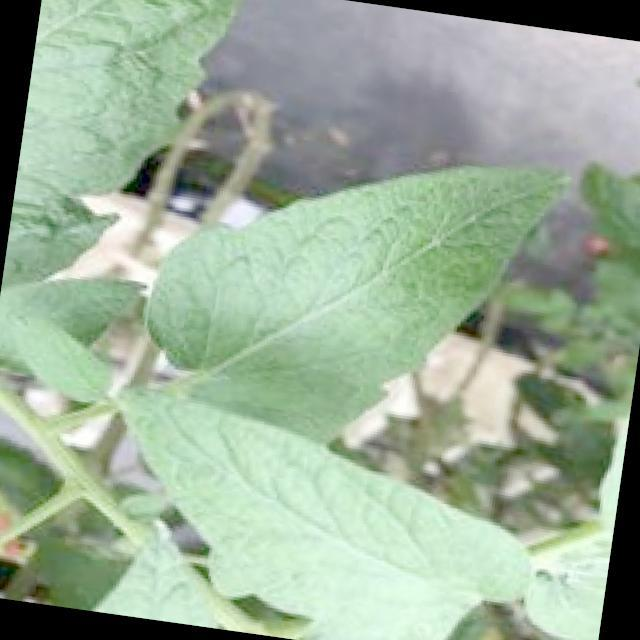Tomato healthy leaf: (142, 161, 567, 443), (115, 387, 533, 640), (5, 0, 231, 286), (12, 315, 113, 403)
